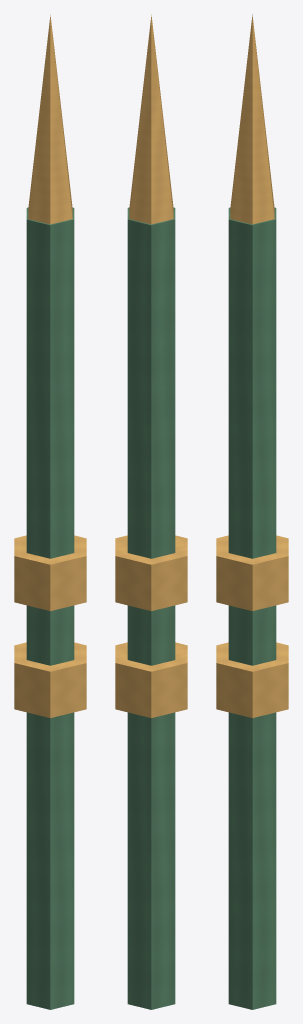
The model's file is atlas100-s001-a05.lod1.glb.
3 renders of one model, left to right at view 1: azimuth 90°, elevation 25°; view 2: azimuth 210°, elevation 25°; view 3: azimuth 270°, elevation 25°, orthographic.
Visible parts, largest first — view 1: atlas100-s001-a05:part-000, atlas100-s001-a05:part-004, atlas100-s001-a05:part-002, atlas100-s001-a05:part-003; view 2: atlas100-s001-a05:part-000, atlas100-s001-a05:part-004, atlas100-s001-a05:part-002, atlas100-s001-a05:part-003; view 3: atlas100-s001-a05:part-000, atlas100-s001-a05:part-004, atlas100-s001-a05:part-002, atlas100-s001-a05:part-003.
Part boxes in pixels (x1,y1,x2,y2): atlas100-s001-a05:part-000: [26, 207, 74, 1009]; atlas100-s001-a05:part-004: [28, 14, 72, 224]; atlas100-s001-a05:part-002: [14, 642, 86, 717]; atlas100-s001-a05:part-003: [14, 535, 86, 610]; atlas100-s001-a05:part-000: [127, 207, 175, 1009]; atlas100-s001-a05:part-004: [129, 14, 173, 224]; atlas100-s001-a05:part-002: [115, 642, 187, 717]; atlas100-s001-a05:part-003: [115, 535, 187, 610]; atlas100-s001-a05:part-000: [228, 207, 276, 1009]; atlas100-s001-a05:part-004: [230, 14, 274, 224]; atlas100-s001-a05:part-002: [216, 642, 288, 717]; atlas100-s001-a05:part-003: [216, 535, 288, 610].
Size of the model in its own units: 0.1158 by 1.51 by 0.1002.
2 materials, 2 textured.
